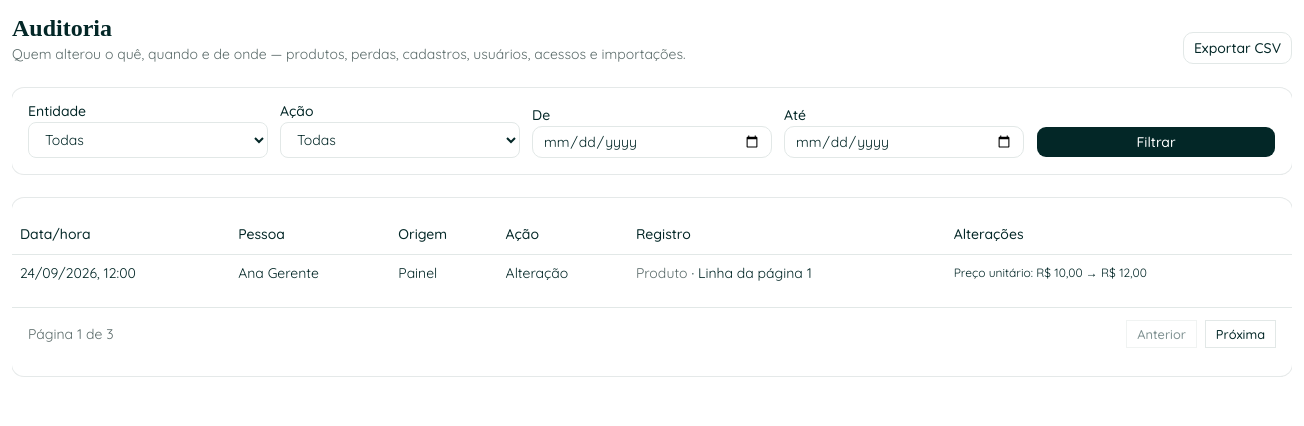
it: AuditPage › resposta atrasada de uma página anterior é descartada (clicar "Próxima" rápido)
Expected: the text "Produto · Linha da página 1" is shown, 628,254 -> 946,290
Click the button "Próxima". click: click(1240, 334)
box: 1205,320 -> 1276,348
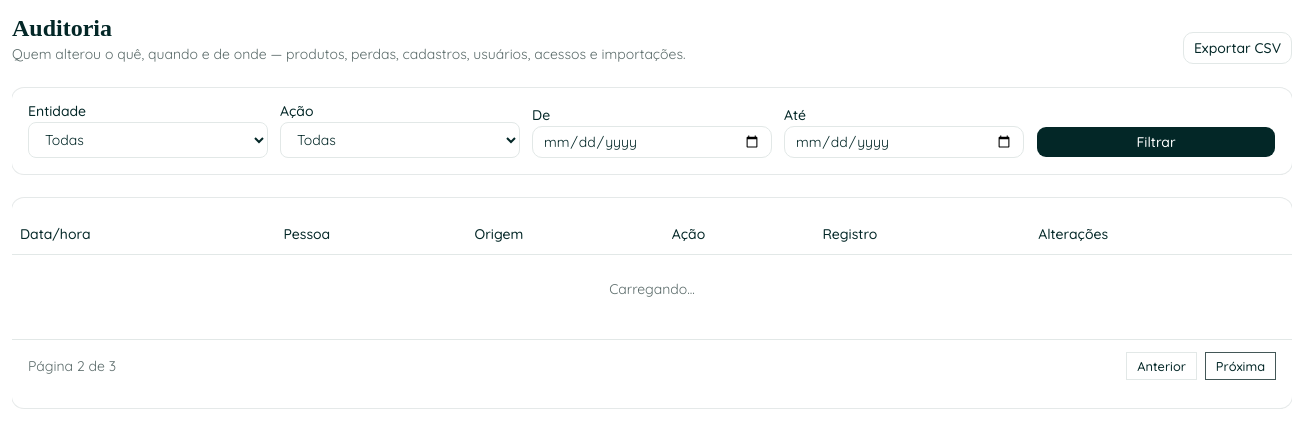
Click the button "Próxima". click: click(1240, 366)
box: 1205,352 -> 1276,380
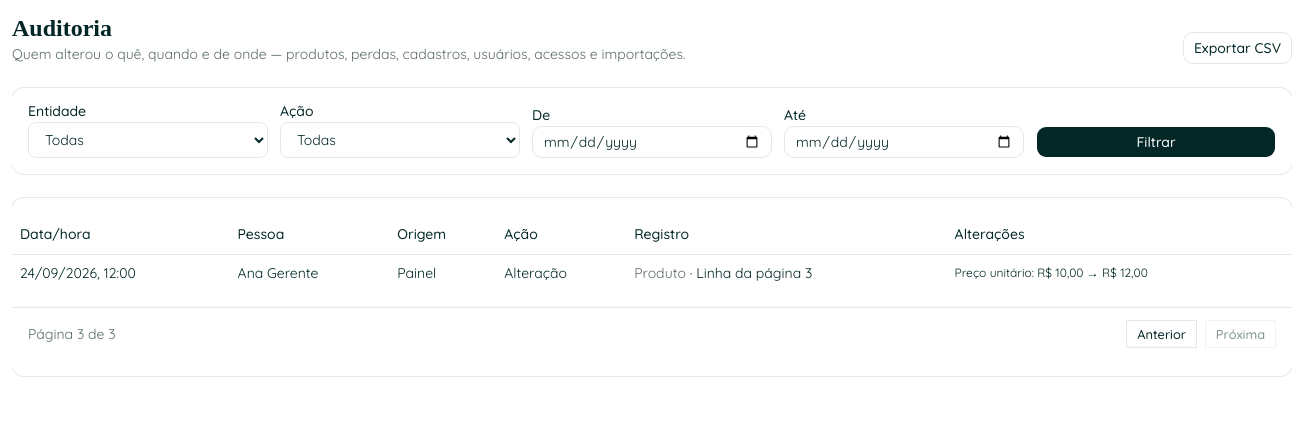
Result: the text "Página 3 de 3" is shown at 28,324 -> 116,344
Result: the text "Produto · Linha da página 3" is shown at 626,254 -> 947,290
